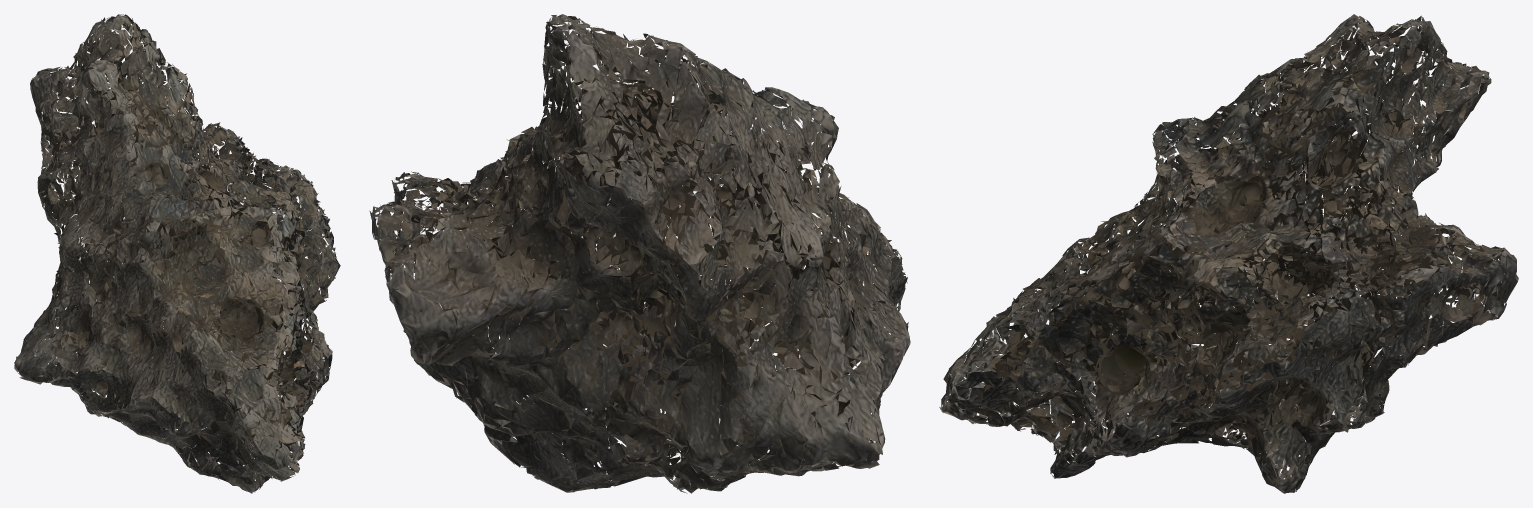
The model's file is asteroid_uncommon_4.glb.
3 views of the same model, side by side, from view 1: azimuth 30°, elevation 25°; view 2: azimuth 150°, elevation 25°; view 3: azimuth 270°, elevation 25° (orthographic). The views are drawn at different scales.
Parts seen in each view (by area): view 1: model; view 2: model; view 3: model.
Boxes of the visible parts, x1,y1,x2,y2 form: model: (14, 14, 340, 493); model: (369, 14, 910, 493); model: (939, 14, 1518, 493).
Size of the model in its own units: 1.46 by 1.68 by 1.9.
1 material, 1 textured.
